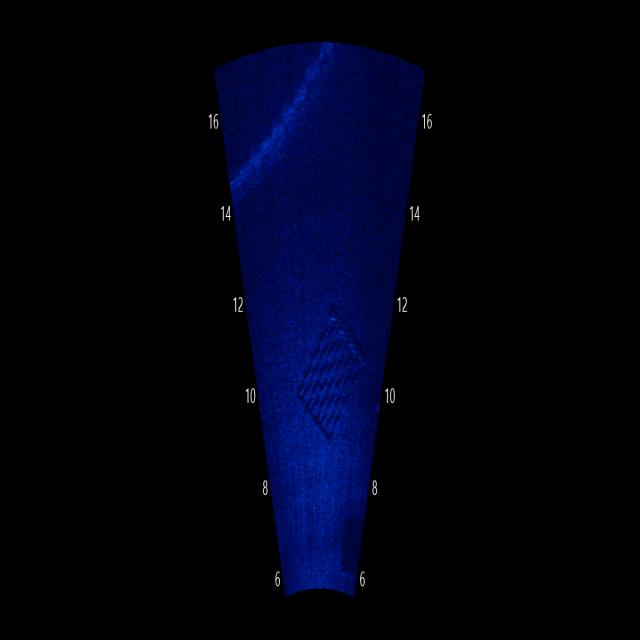square: (292, 298, 371, 458), (341, 514, 369, 578)
